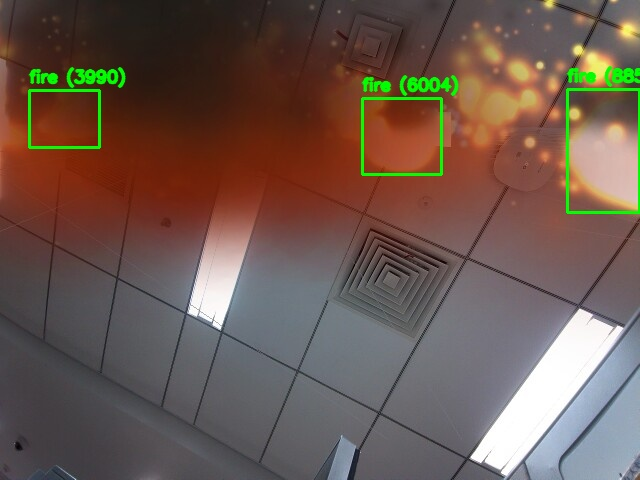fire: (567, 89, 639, 212), (362, 98, 441, 174), (29, 90, 99, 147)
